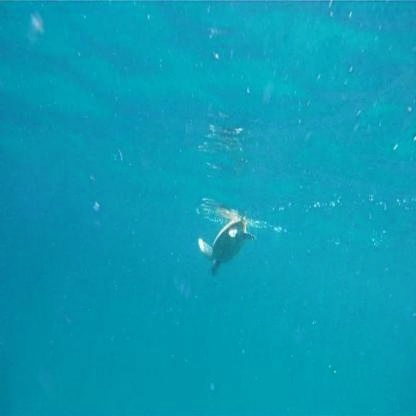misc: (197, 204, 261, 284)
